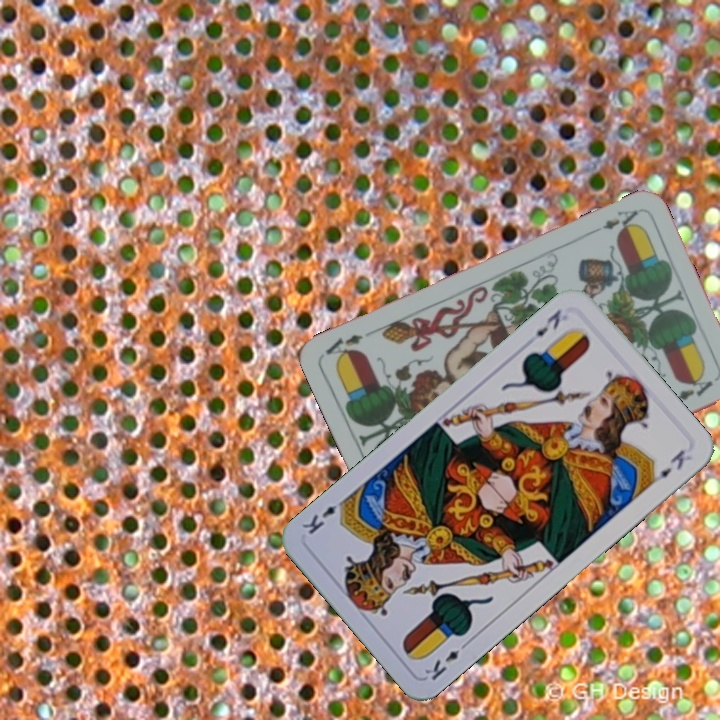EA: (586, 205, 641, 237)
EK: (420, 636, 472, 684), (532, 305, 564, 340)
